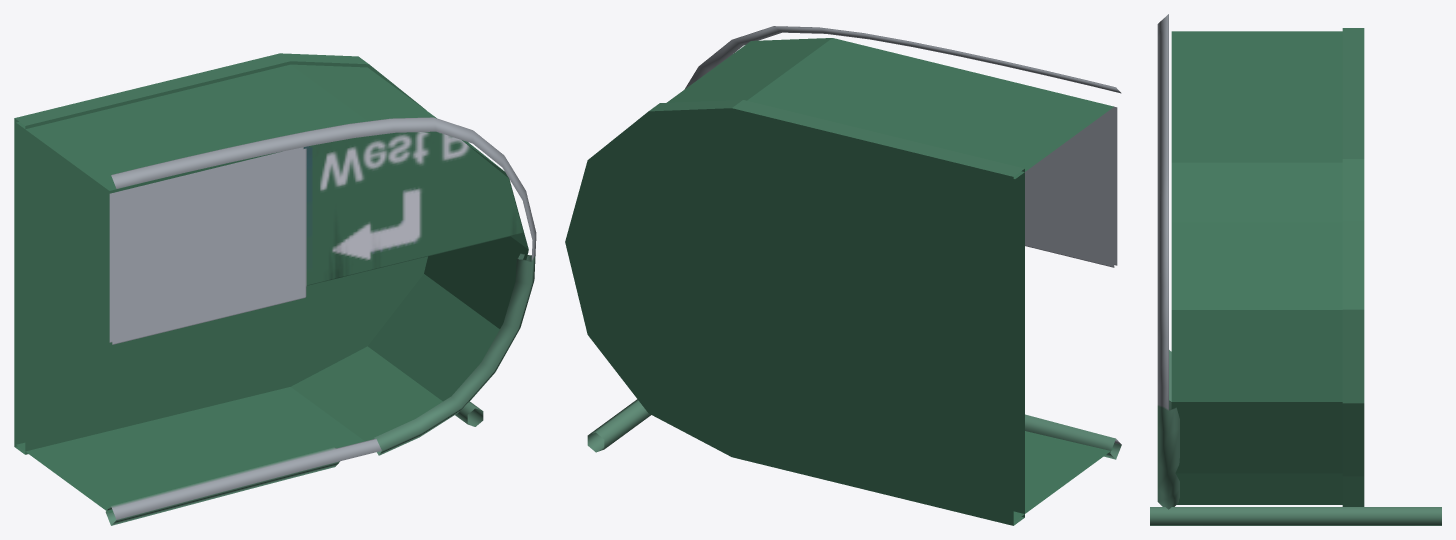
The model's file is section-1.obj.
3 renders of one model, left to right at view 1: azimuth 30°, elevation 25°; view 2: azimuth 150°, elevation 25°; view 3: azimuth 270°, elevation 25°, orthographic. The views are drawn at different scales.
Size of the model in its own units: 0.8014 by 0.6317 by 0.47.
